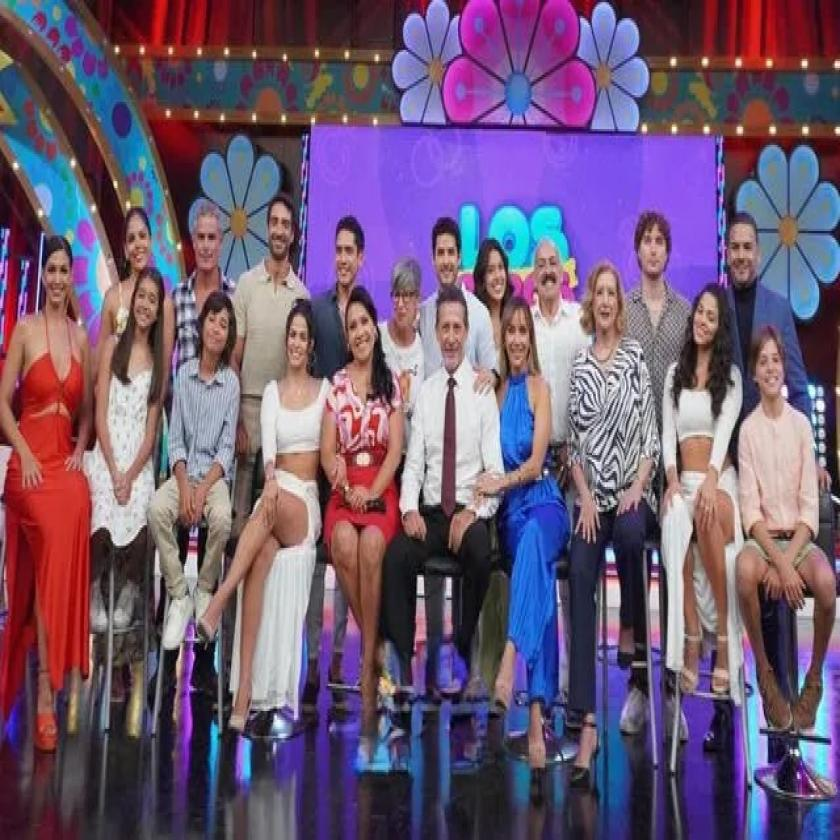Sin_casco: (25, 216, 80, 326), (586, 244, 633, 340), (189, 291, 243, 373), (272, 296, 319, 378), (532, 221, 572, 314), (628, 211, 679, 282), (691, 276, 732, 360), (748, 317, 790, 399), (340, 286, 384, 361), (263, 185, 298, 275), (429, 288, 469, 366), (189, 188, 226, 272), (726, 206, 763, 290), (130, 258, 163, 346), (332, 190, 362, 286), (504, 294, 537, 373), (475, 225, 509, 298), (124, 192, 154, 272), (392, 249, 418, 340), (430, 214, 461, 281)
